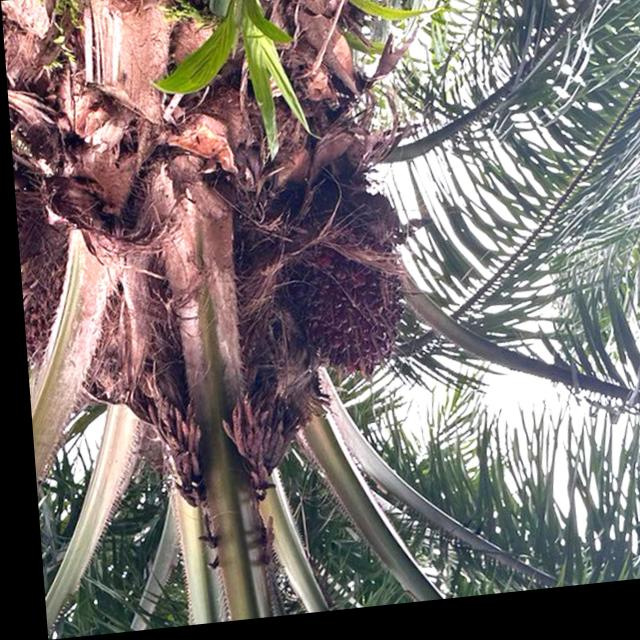ripe: (288, 211, 403, 388)
